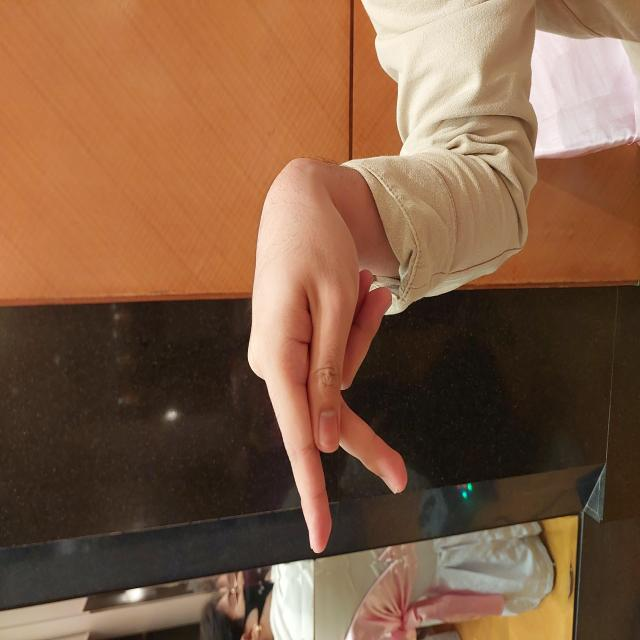P: (83, 246, 457, 409)
